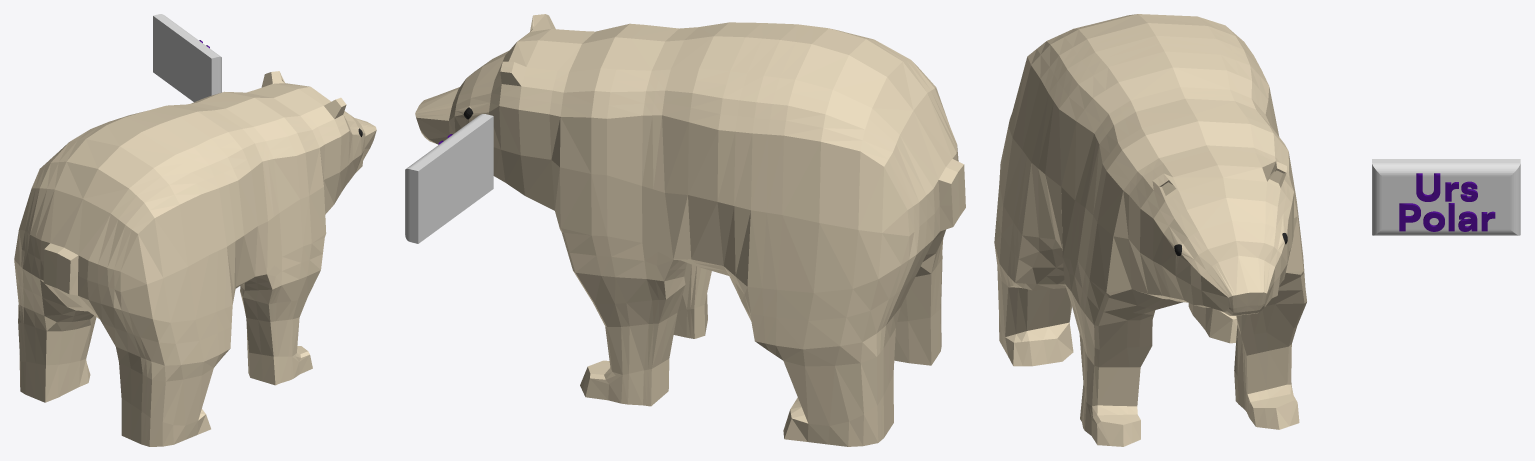
Rendered from Polar bear.fbx.
3 renders of one model, left to right at view 1: azimuth 30°, elevation 25°; view 2: azimuth 150°, elevation 25°; view 3: azimuth 270°, elevation 25°, orthographic. The views are drawn at different scales.
Visible parts, largest first — view 1: Plane.031, Cube.007; view 2: Plane.031, Cube.007; view 3: Plane.031, Cube.007, Text.007.
Part boxes in pixels (x1,y1,x2,y2): Plane.031: (14, 71, 376, 446); Cube.007: (153, 14, 221, 102); Plane.031: (415, 14, 965, 446); Cube.007: (405, 114, 493, 243); Plane.031: (994, 14, 1306, 446); Cube.007: (1372, 159, 1520, 235); Text.007: (1399, 173, 1495, 231).
Bounding box in the file's own units: 6.19 × 4.2 × 5.98.
